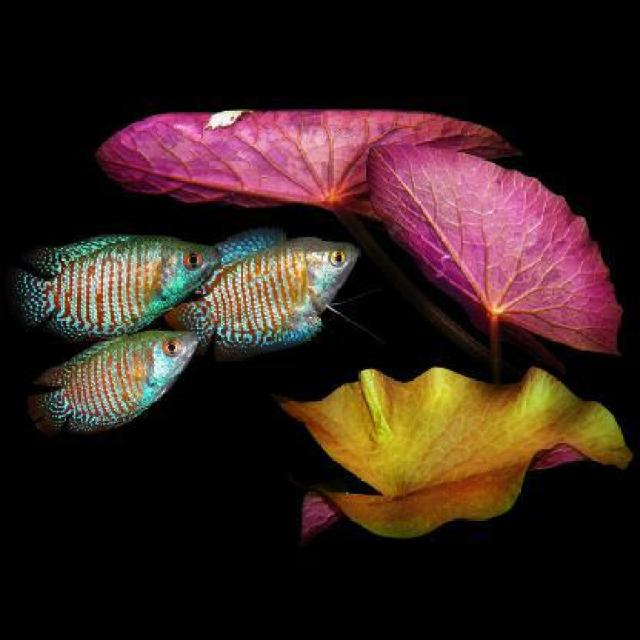Gourami: (184, 225, 364, 353), (11, 227, 223, 333), (25, 324, 203, 436)
